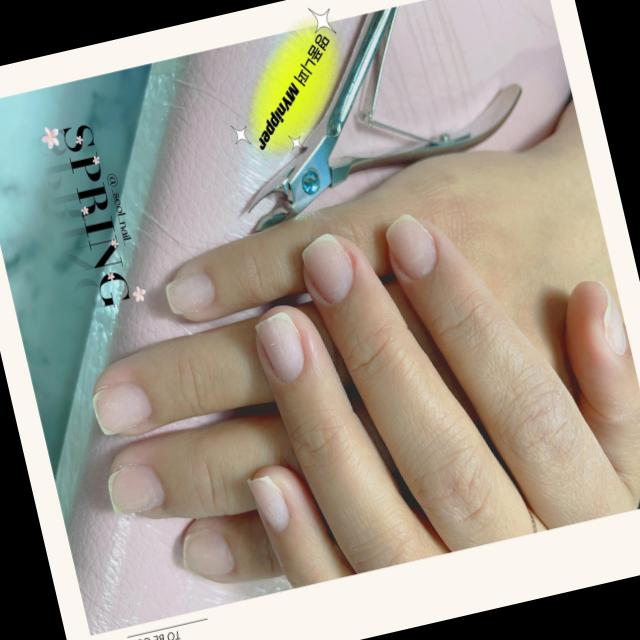Nail: (301, 233, 352, 304), (255, 311, 303, 382), (385, 214, 436, 280), (91, 381, 151, 434), (107, 463, 164, 514), (182, 529, 234, 577), (247, 476, 288, 532), (164, 271, 214, 315), (597, 281, 625, 355)
